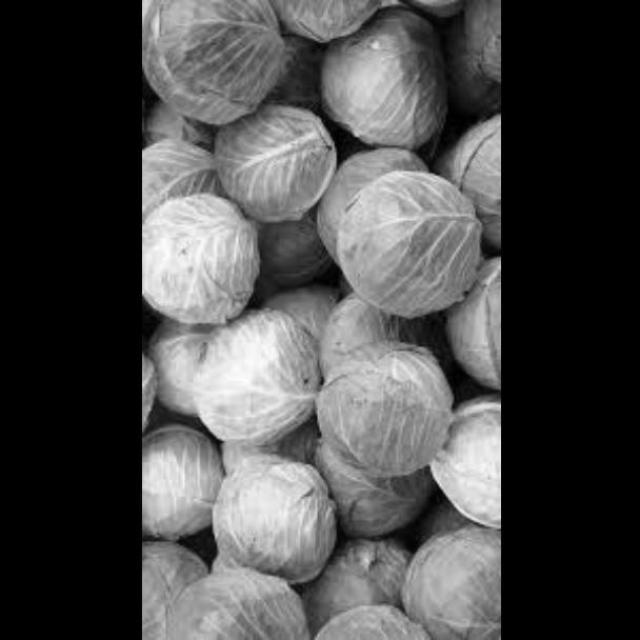cai bap: (195, 299, 329, 493), (324, 168, 476, 339), (139, 0, 308, 149), (304, 9, 458, 172), (292, 344, 464, 484), (140, 190, 258, 359), (206, 97, 348, 229), (206, 477, 339, 611), (394, 514, 498, 640), (409, 394, 498, 539), (140, 529, 252, 639), (428, 243, 498, 401), (144, 424, 224, 562), (422, 99, 498, 232), (168, 567, 306, 639), (326, 560, 405, 640)
